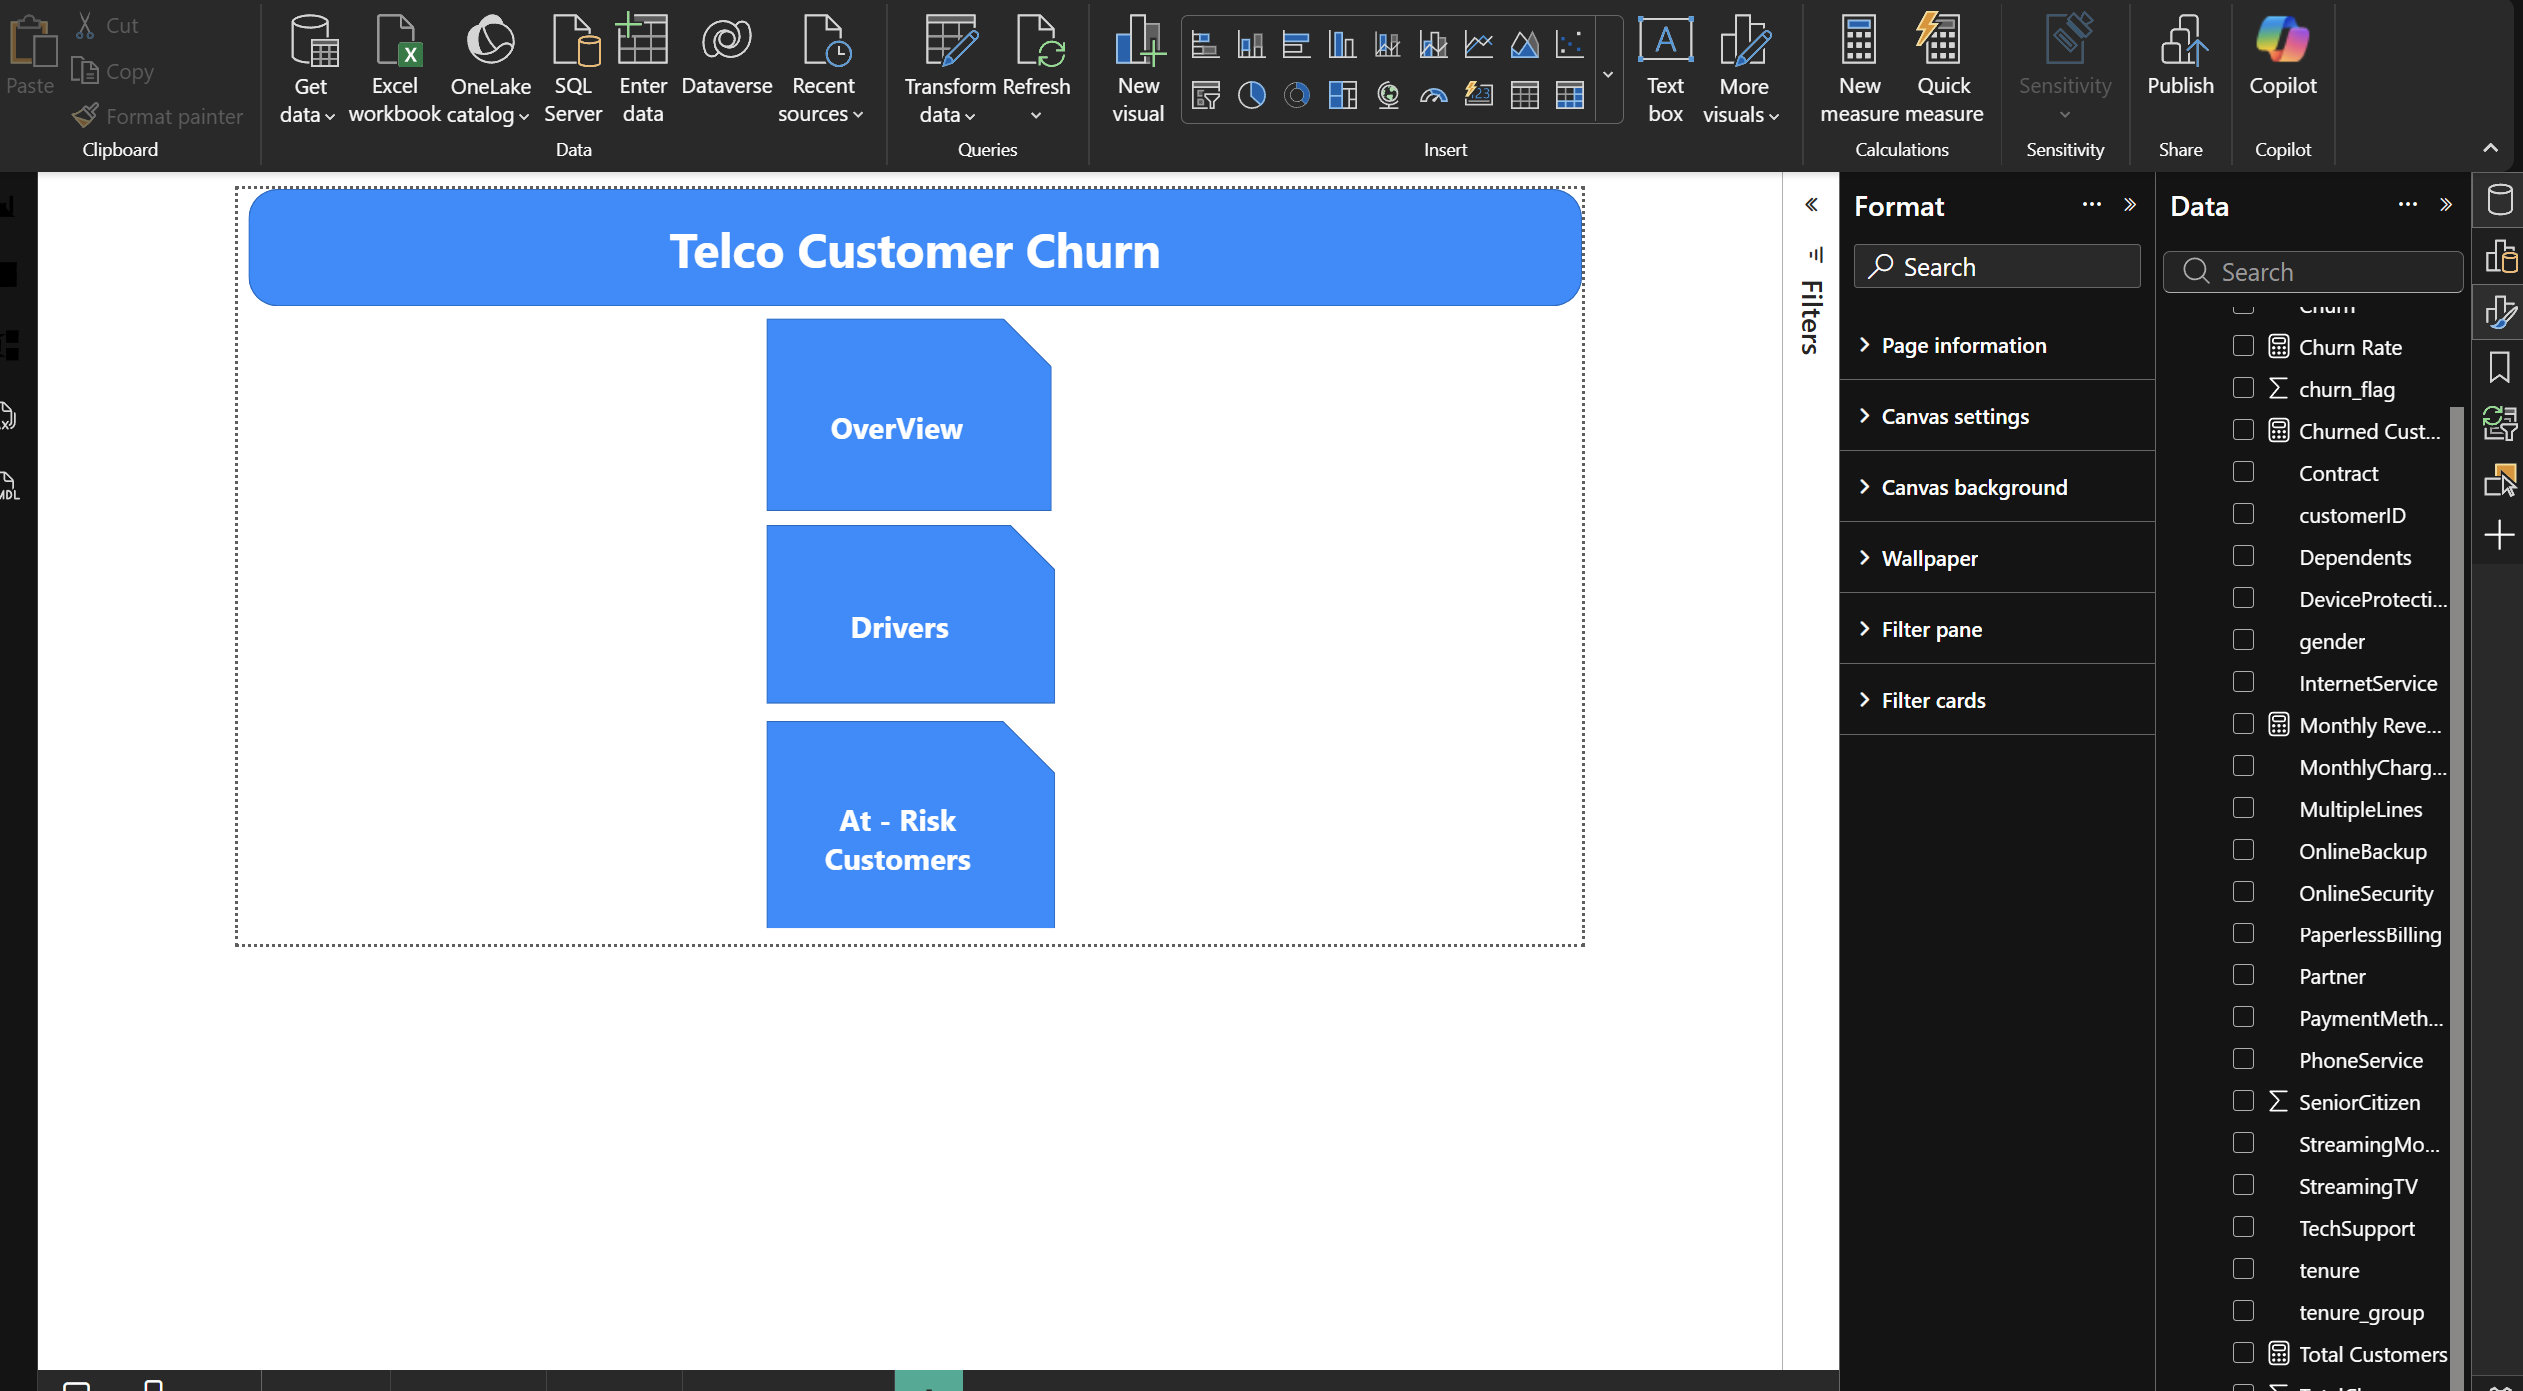

What the dashboard file says about the page in this screenshot:
{"tool":"powerbi","page":{"name":"Home","canvas":[1280,720],"ordinal":0},"visuals":[{"type":"shape","box":[10,0,1270,111.7],"z":0},{"type":"shape","box":[503.3,123.3,271.7,183.3],"z":1000},{"type":"shape","box":[503.3,320,275,170],"z":2000},{"type":"shape","box":[503.3,506.7,275,198.3],"z":3000}]}

Visuals, with their boxes on the page's 1280x720 design canvas (x1, y1, x2, y2). These are canvas units, not pixel positions in the 2523x1391 screenshot, which may show the page scaled, cropped or inside an application window:
shape: [10,0,1280,112]
shape: [503,123,775,307]
shape: [503,320,778,490]
shape: [503,507,778,705]
